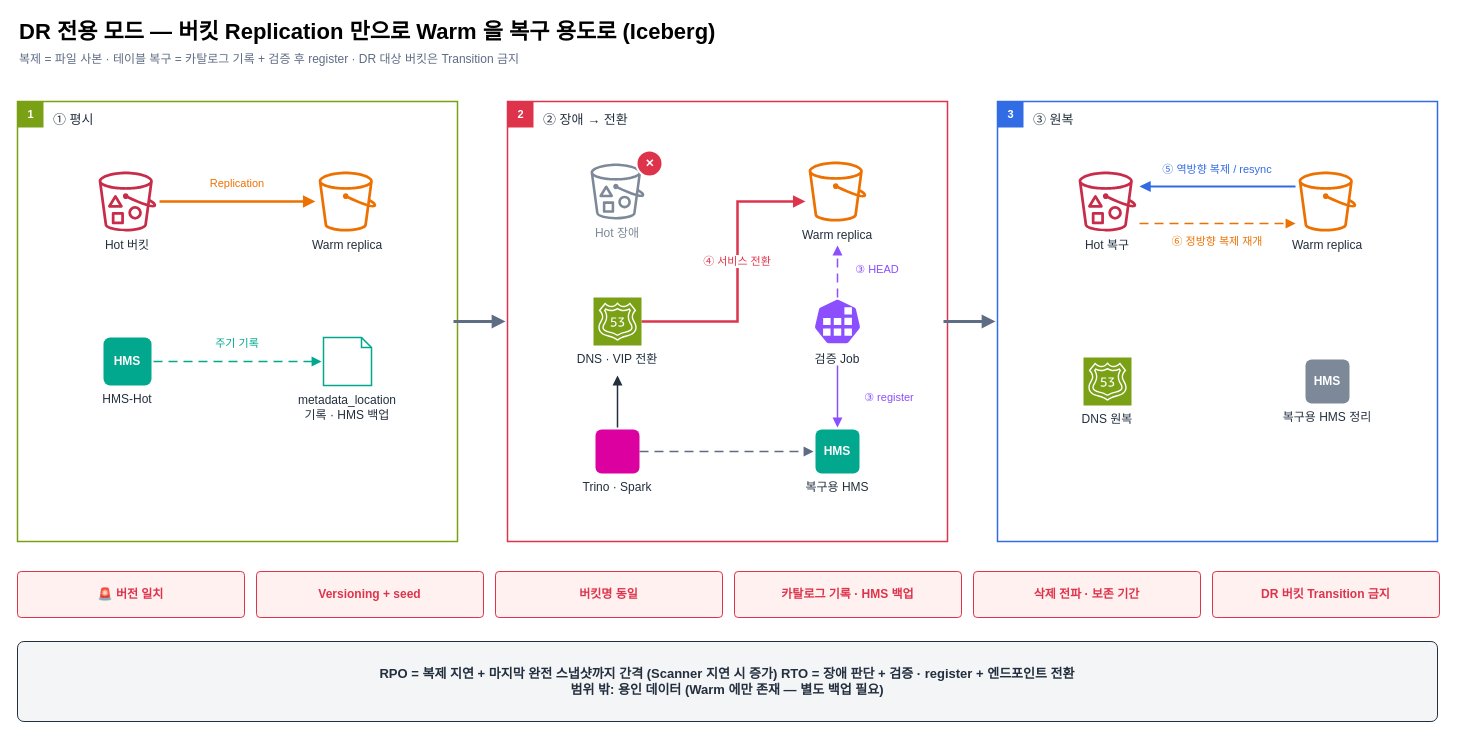
The diagram is 1458 pixels wide and 739 high, and some of its shapes have lost their labels. The centre of each missing label's shape, as x and y in pixels:
LOG: the point at 347,361
Trino: the point at 617,451
